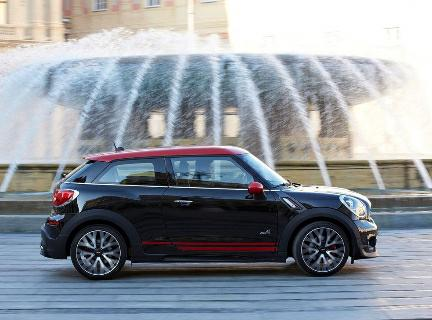MINI-JCWPACEMAN: (43, 137, 385, 278)
